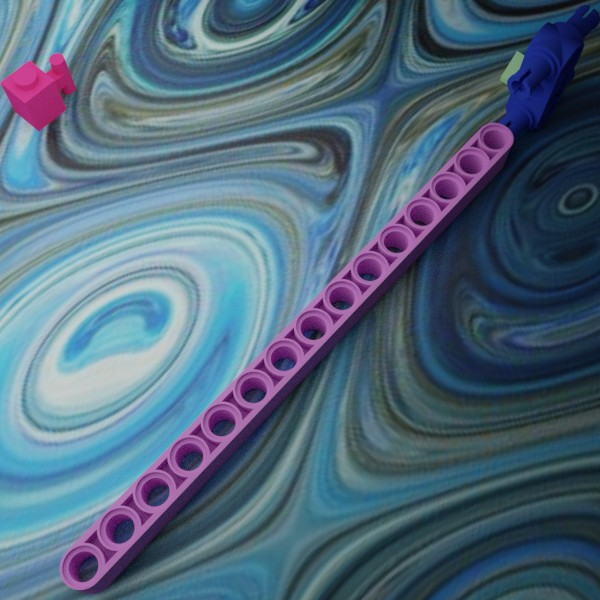lego: (59, 122, 513, 594), (489, 4, 599, 147), (0, 53, 75, 131), (500, 50, 551, 99)
